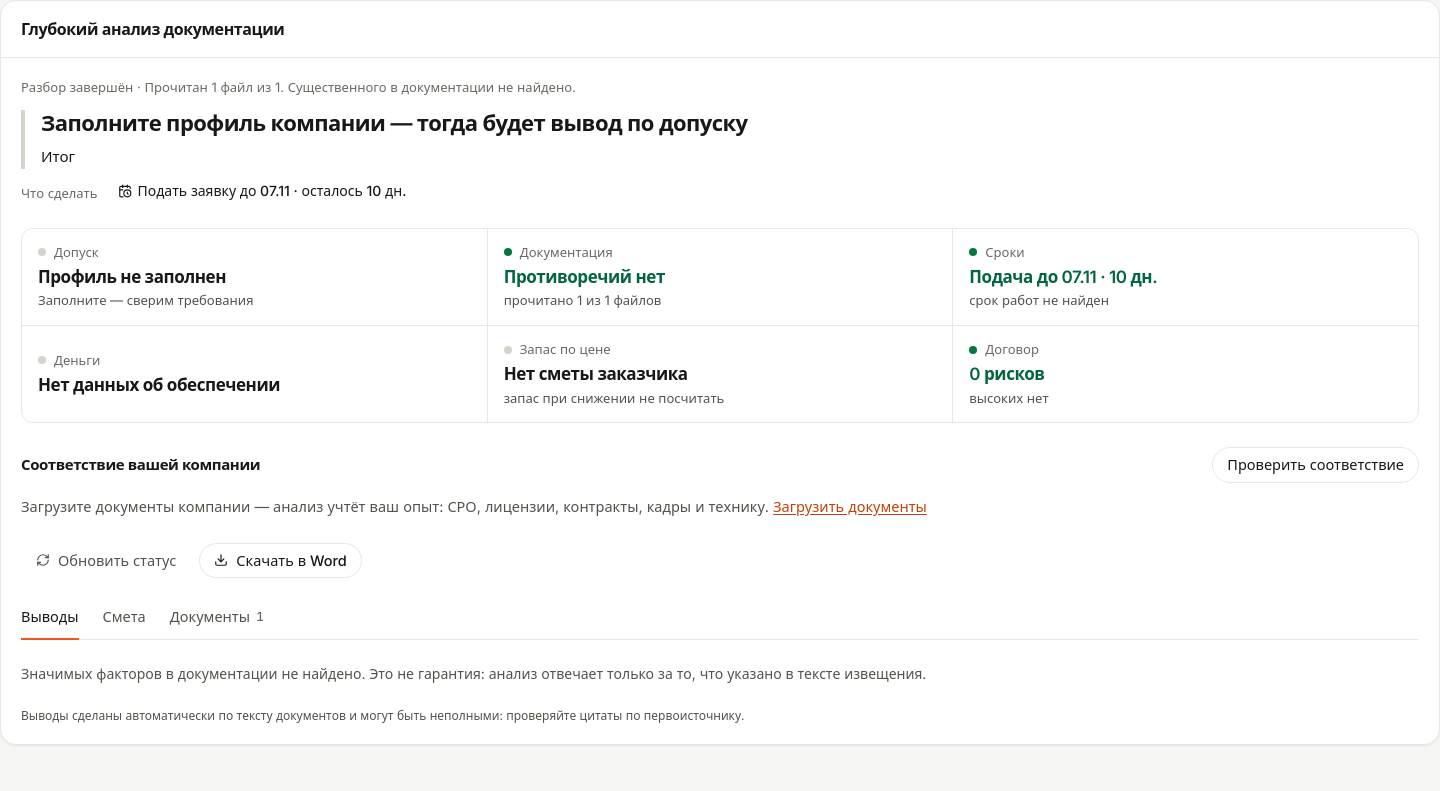
Test case: DeepAnalysisPanel: соответствие вашей компании › нет фактов, но человек нажал «Проверить соответствие» — запрос уходит (анкета могла быть заполнена)
This screenshot has width=1440, height=791.
Click the button "Проверить соответствие" at (1316, 465), box [1212,447,1419,483]
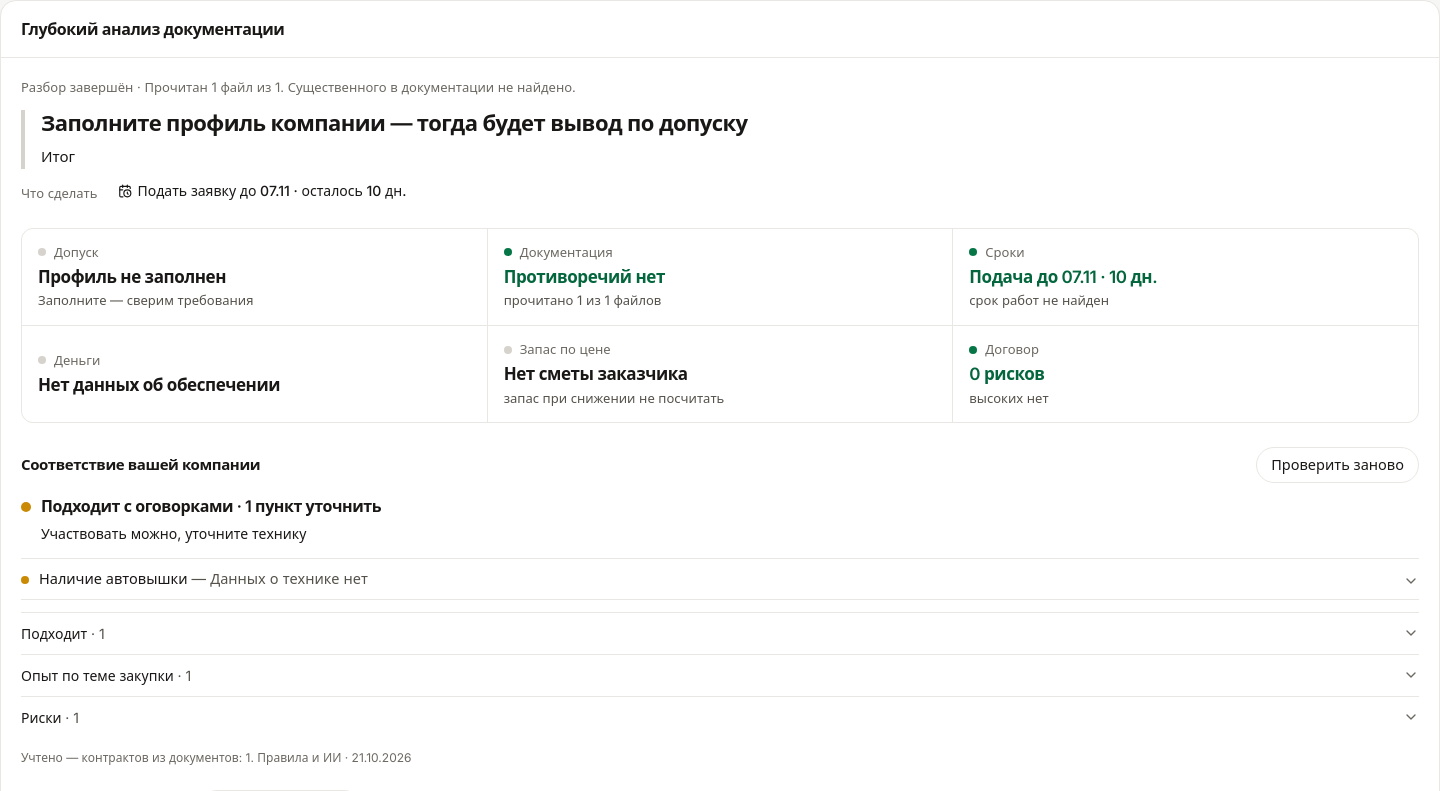
Check: the element with test id "company-fit-overall" is shown, box [21,496,381,516]
